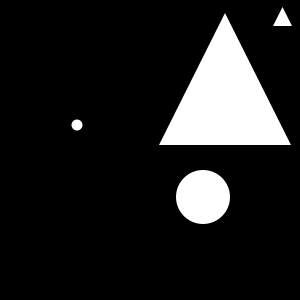rectangle: (176, 170, 230, 224), (72, 120, 82, 130)
triangle: (159, 13, 291, 145), (273, 7, 292, 26)
